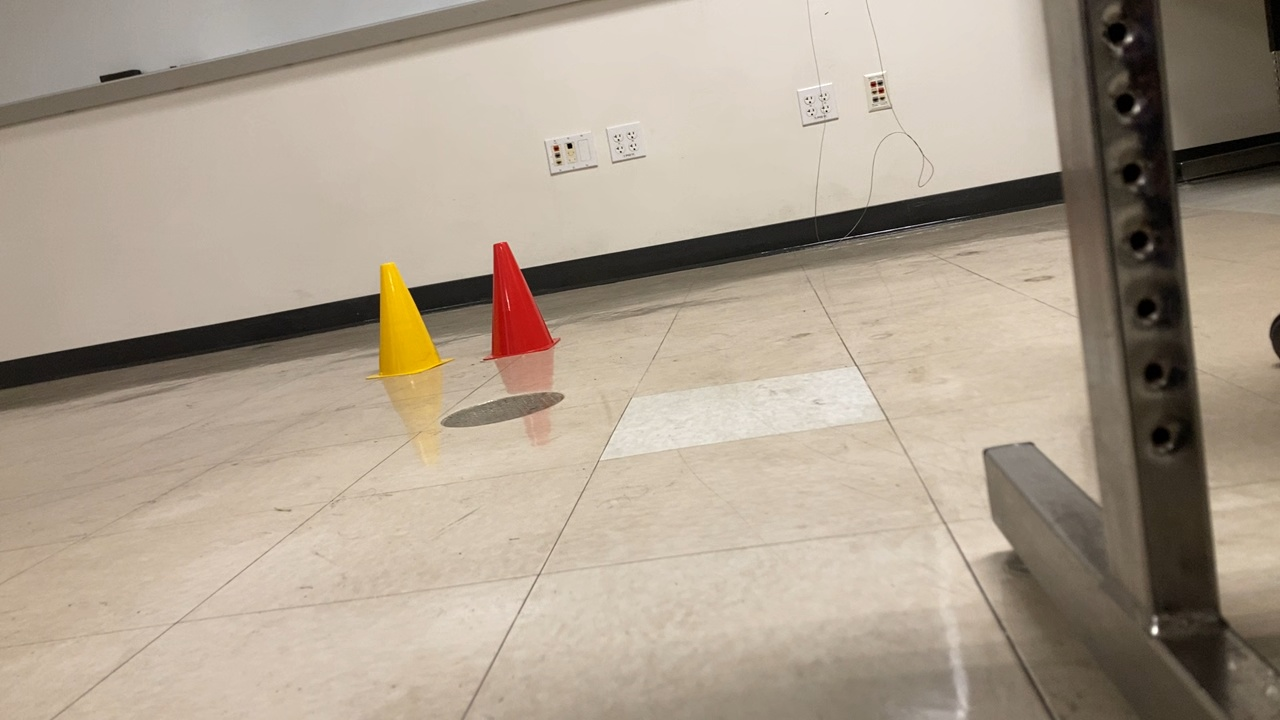red_cone: (480, 240, 564, 360)
yellow_cone: (367, 257, 453, 381)
